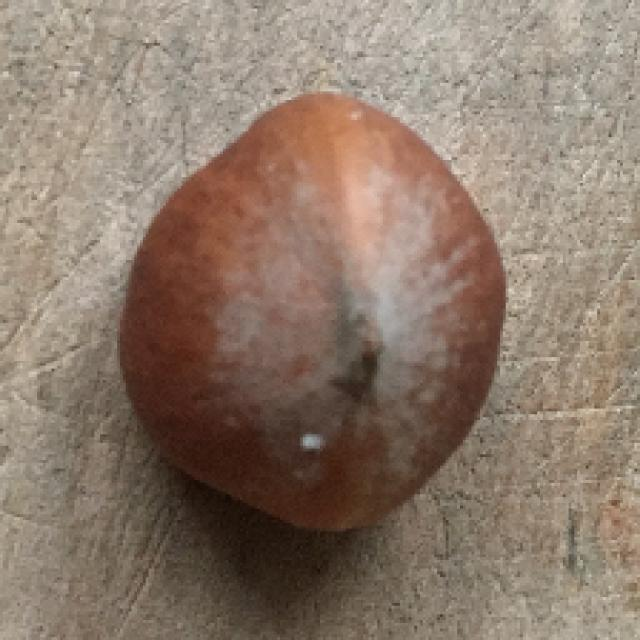QualityHazelnut: (114, 90, 508, 539)
